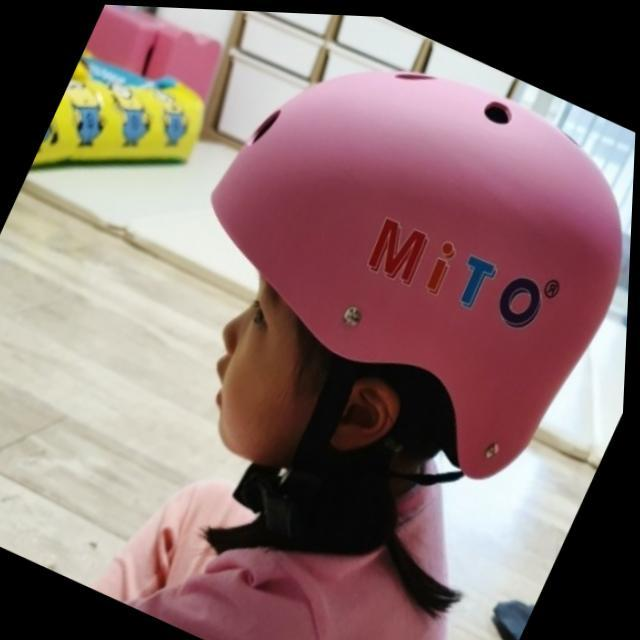Helmet: (199, 52, 623, 496)
